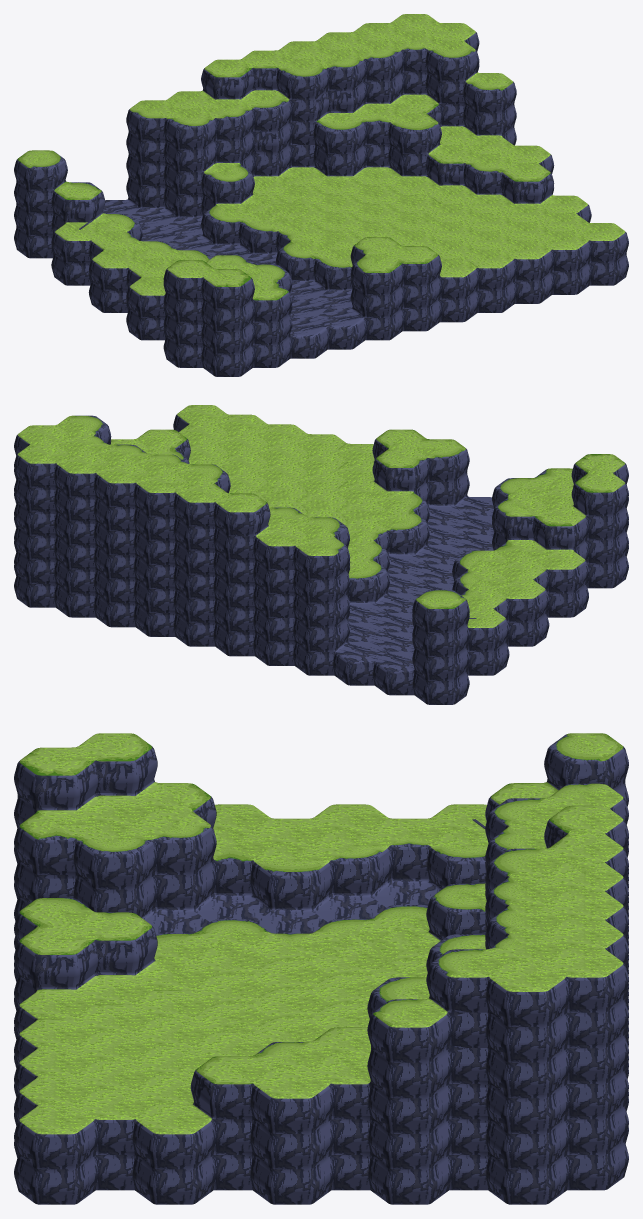
Rendered from ForestLevel1 (1).fbx.
The picture shows the model from 3 angles, top to bottom: view 1: azimuth 30°, elevation 25°; view 2: azimuth 150°, elevation 25°; view 3: azimuth 270°, elevation 25°; orthographic projection. The views are drawn at different scales.
Visible parts, largest first — view 1: HexTile.001; view 2: HexTile.001; view 3: HexTile.001.
Part boxes in pixels (<box>): HexTile.001: <box>14,14,628,376</box>; HexTile.001: <box>14,405,628,704</box>; HexTile.001: <box>14,733,628,1204</box>.
Bounding box in the file's own units: 2011 × 600 × 1566.
